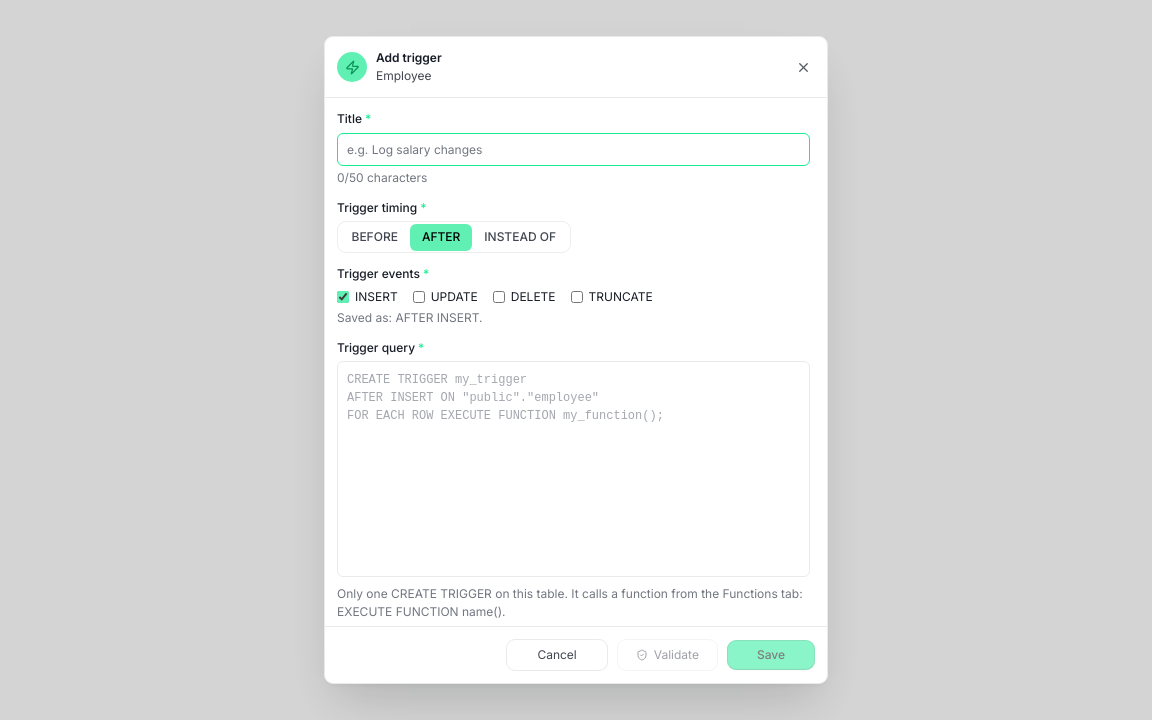
Test case: AutomationFormModal › adding a trigger › warns about INSTEAD OF and TRUNCATE
Click the button "INSTEAD OF" at (520, 237), box top-left (472, 224), bottom-right (568, 250)
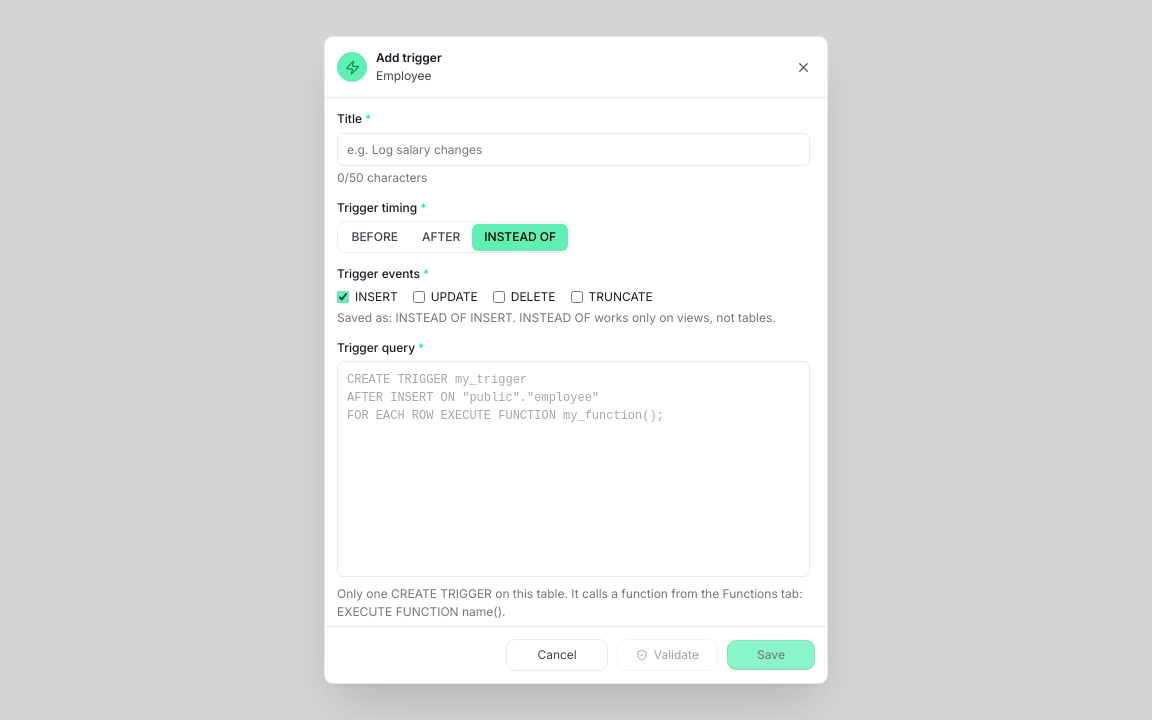
Click the checkbox labelled "TRUNCATE" at (577, 296), box top-left (571, 290), bottom-right (583, 302)
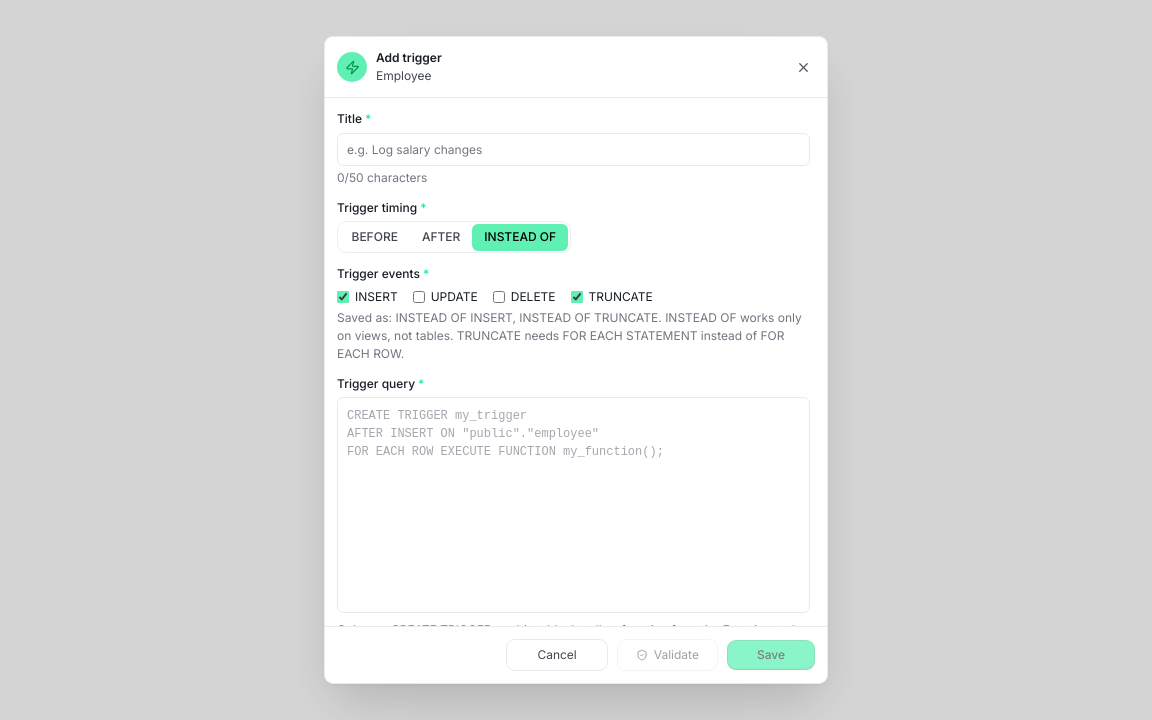
Expected: the text "INSTEAD OF works only on views" is shown, top-left (337, 310), bottom-right (802, 342)
Expected: the text "TRUNCATE needs FOR EACH STATEMENT" is shown, top-left (337, 328), bottom-right (784, 360)
